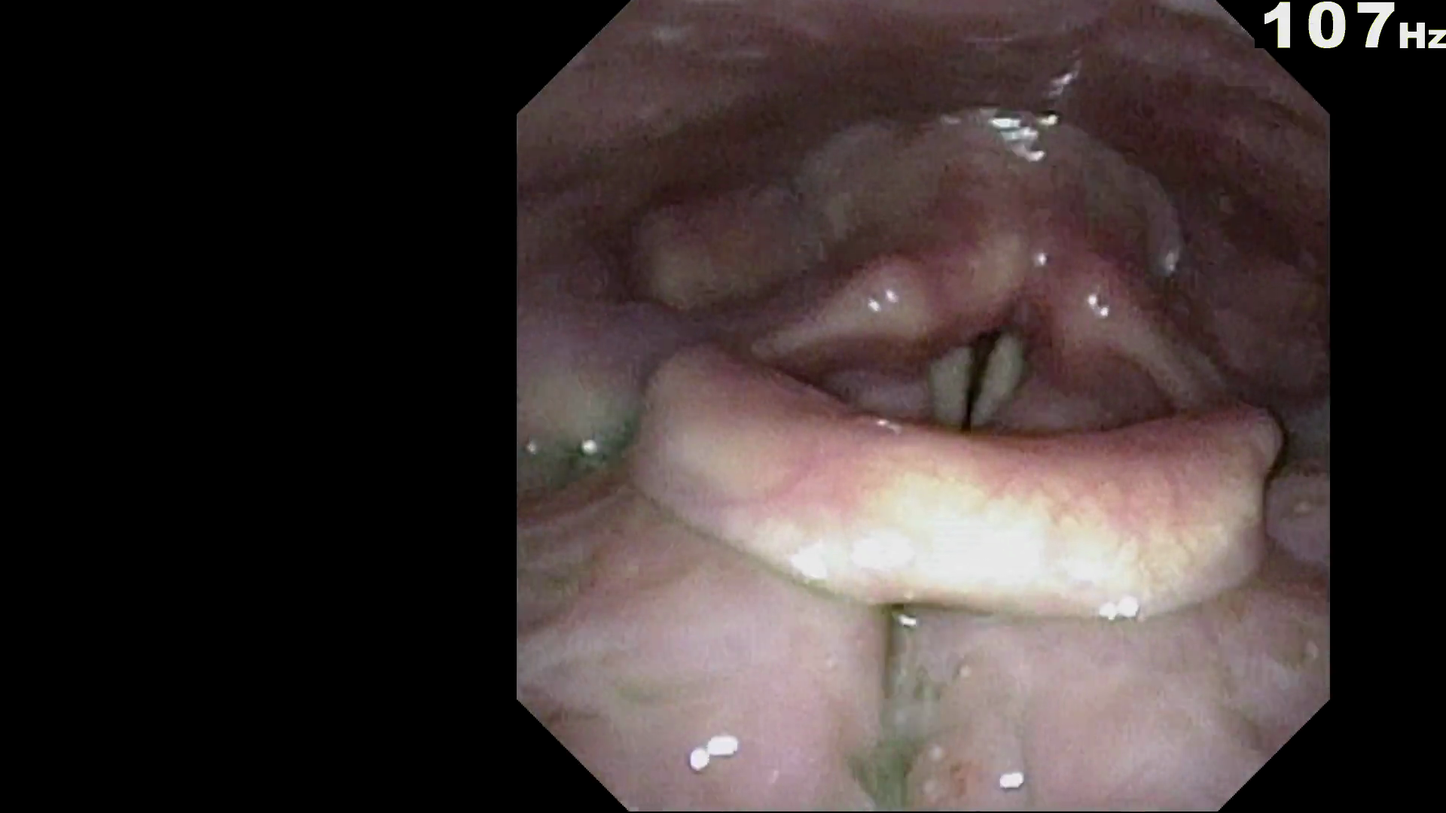epiglottis: (629, 356, 1283, 604)
trachea: (924, 309, 1027, 437)
